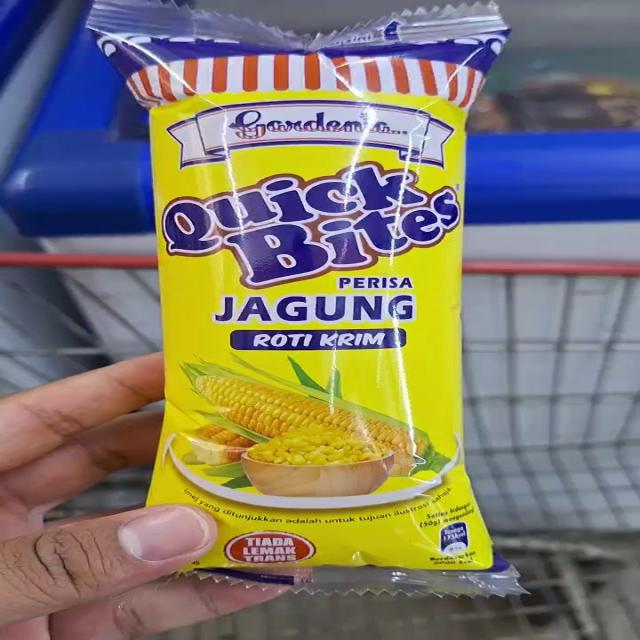Roti: (108, 16, 526, 598)
